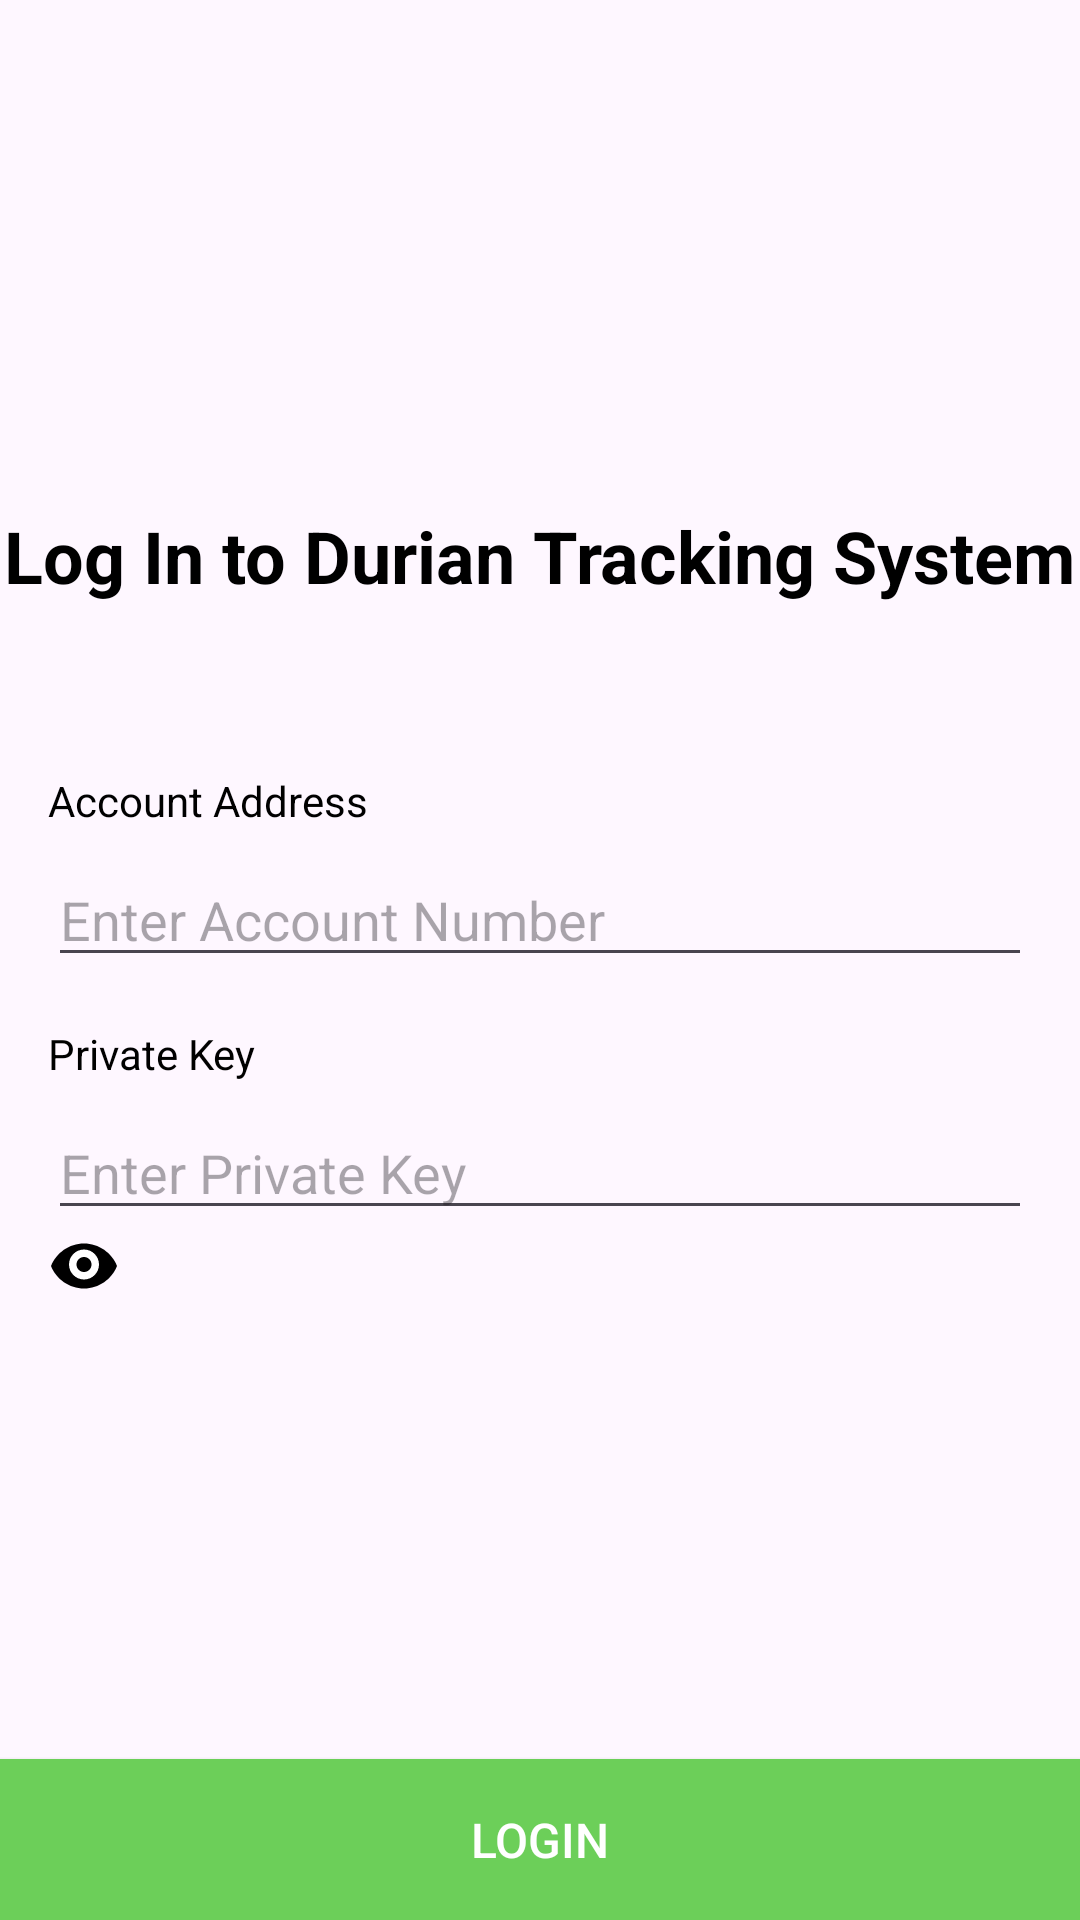

Locate icon controls on the screen. Image size 1080×1920, boxes as detection(x1, y1, x2, y2).
Toggle Visibility: detection(51, 1243, 117, 1289)
